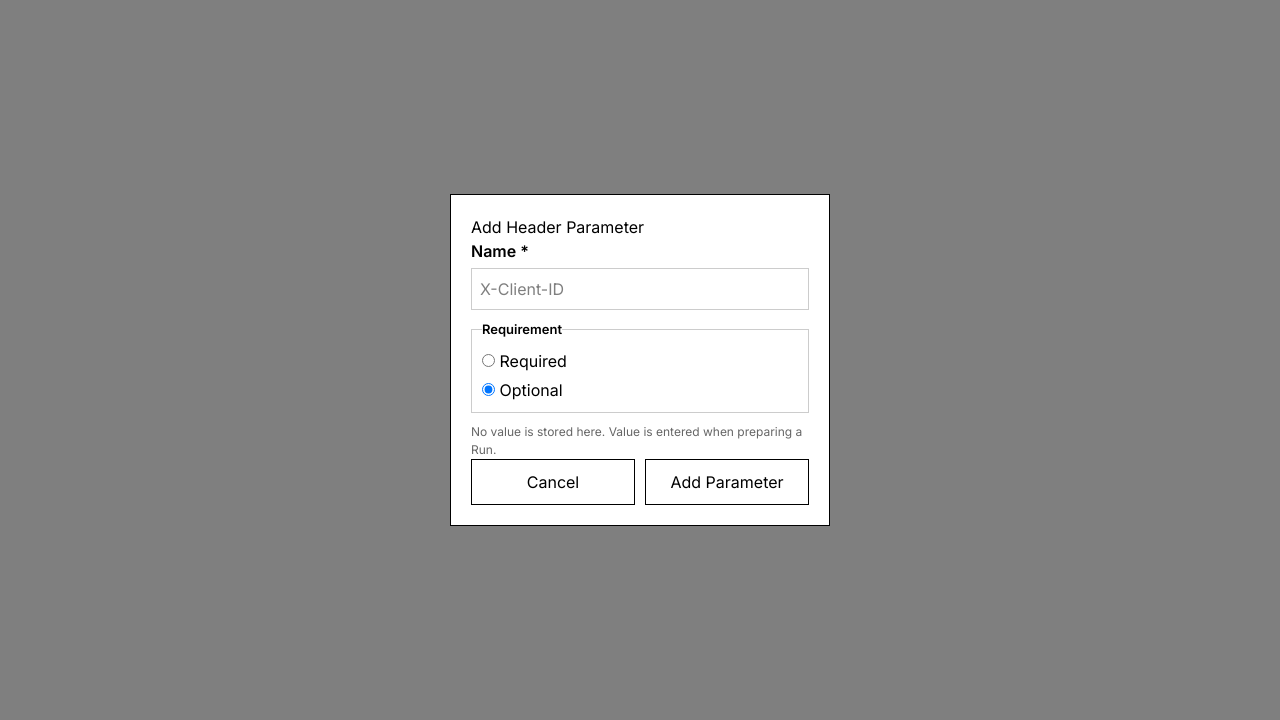
Test: ParameterDefinitionDialog › rejects Authorization as a normal Header, case-insensitively
Type "AUTHORIZATION" into the field labelled "Name *" at (640, 289), box [471,268,809,310]
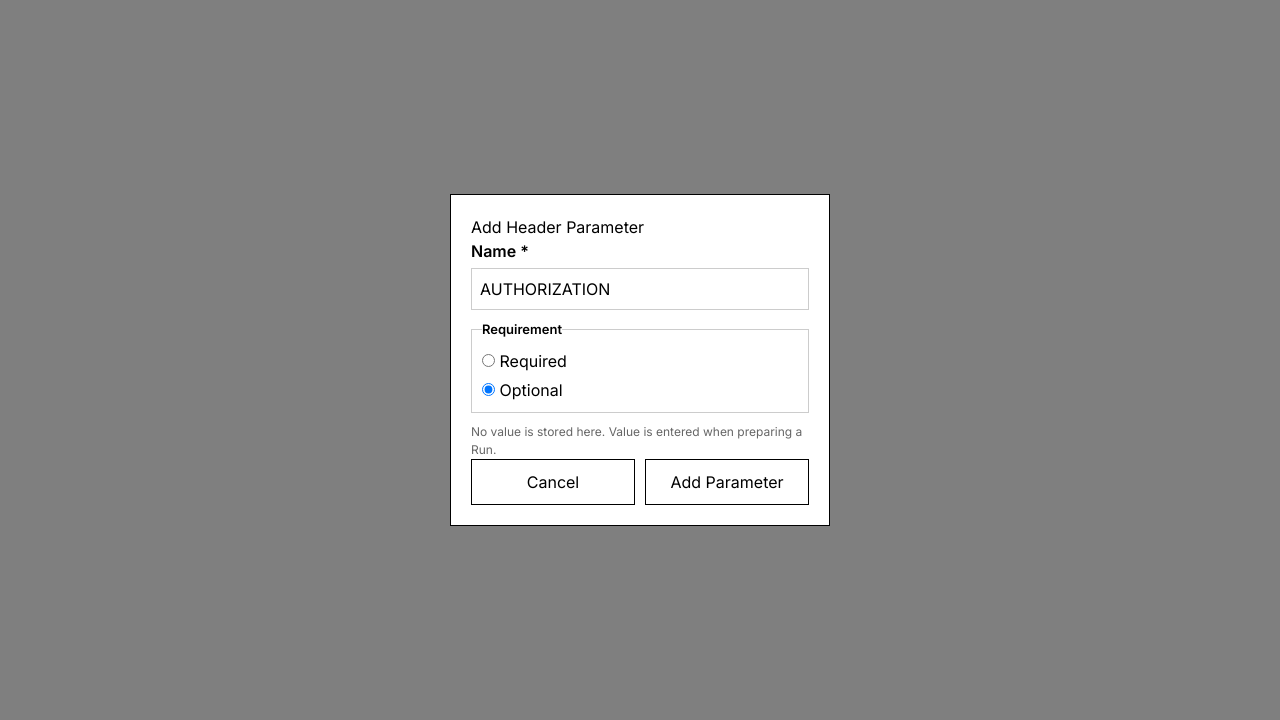
Click the button "Add Parameter" at (727, 482), box [645,459,809,505]
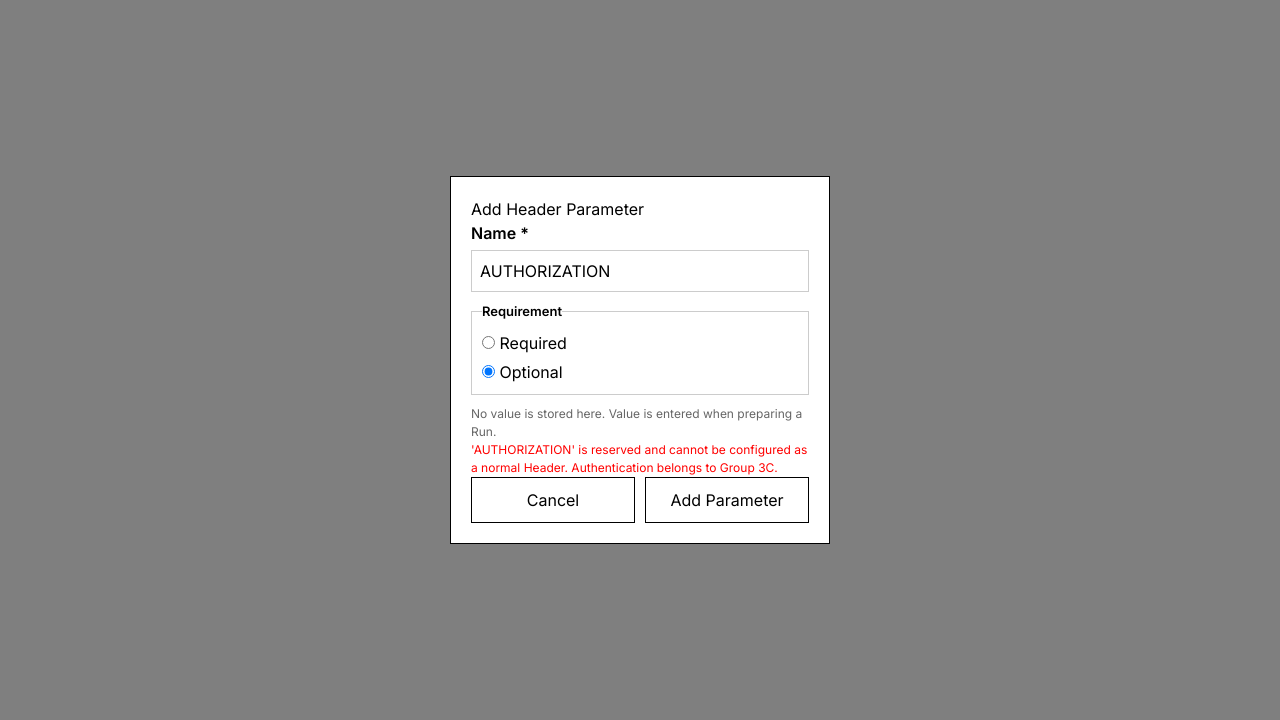
Expected: the text "is reserved and cannot be configured as a normal Header" is shown, [471,442,807,475]
